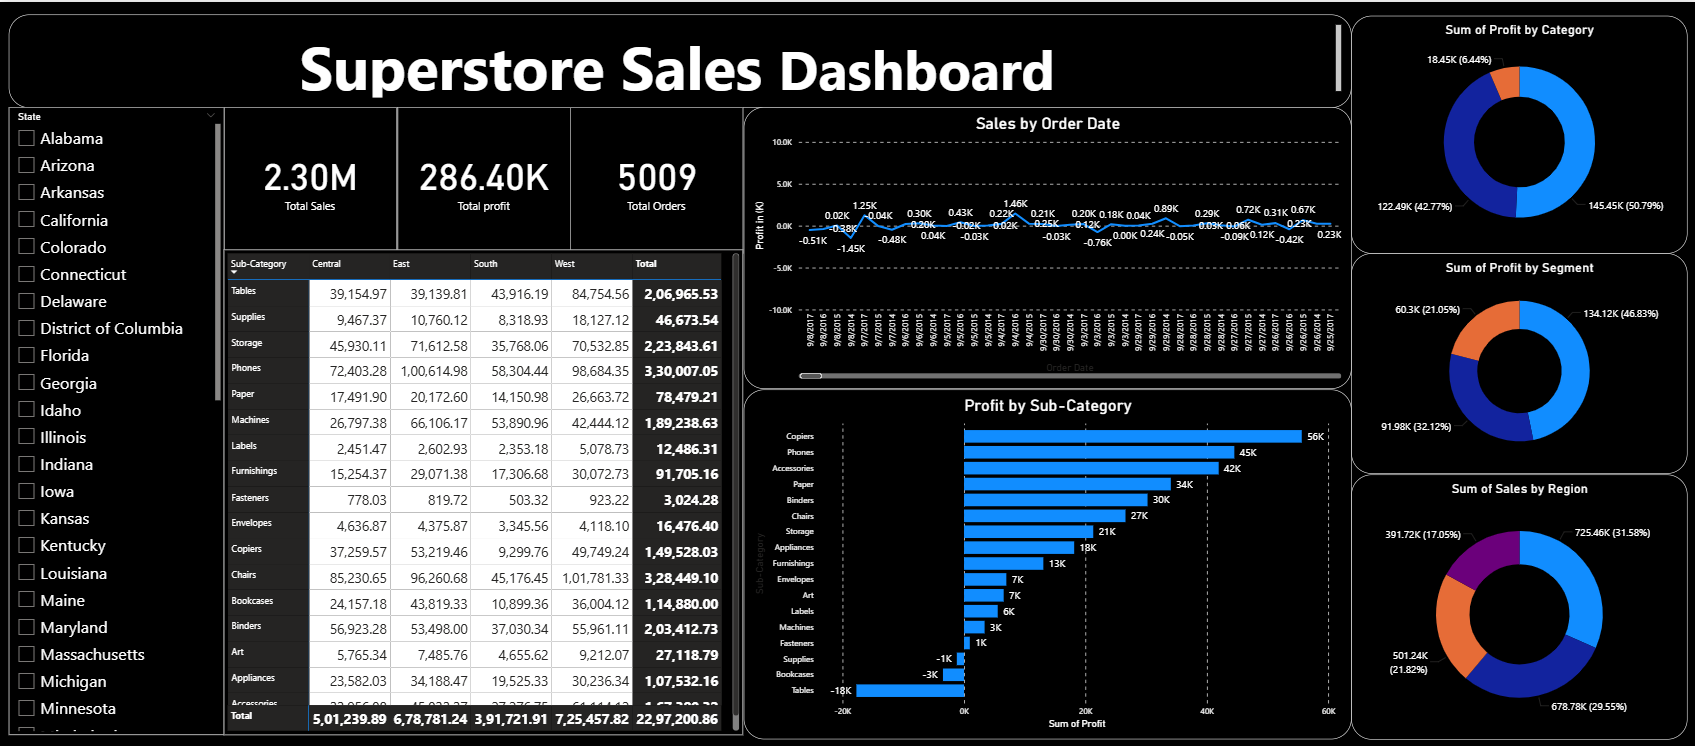

The dashboard page shown, as its layout file describes it:
{"tool":"powerbi","page":{"name":"Page 1","canvas":[2500,1100],"ordinal":0},"visuals":[{"type":"textbox","box":[12.5,17.5,1977.5,137.5],"z":0},{"type":"card","fields":{"Values":["Sample_Superstore.total profit"]},"box":[585,155,255,215],"z":1000},{"type":"card","fields":{"Values":["Sample_Superstore.Total Sales"]},"box":[330,155,255,215],"z":2000},{"type":"slicer","fields":{"Values":["Sample_Superstore.State"]},"box":[12.5,155,317.5,925],"z":4000},{"type":"donutChart","fields":{"Category":["Sample_Superstore.Region"],"Y":["Sum(Sample_Superstore.Sales)"]},"box":[1990,695,495,390],"z":5000},{"type":"donutChart","fields":{"Y":["Sum(Sample_Superstore.Profit)"],"Category":["Sample_Superstore.Category"]},"box":[1990,20,495,350],"z":6000},{"type":"donutChart","fields":{"Y":["Sum(Sample_Superstore.Profit)"],"Category":["Sample_Superstore.Segment"]},"box":[1990,370,495,325],"z":7000},{"type":"barChart","title":"Profit by Sub-Category","fields":{"Y":["Sum(Sample_Superstore.Profit)"],"Category":["Sample_Superstore.Sub-Category"]},"box":[1095,570,895,515],"z":8000},{"type":"lineChart","title":"Sales by Order Date","fields":{"Category":["Sample_Superstore.Order Date"],"Y":["Sample_Superstore.Total profit"]},"box":[1095,155,895,415],"z":9000},{"type":"card","fields":{"Values":["Sample_Superstore.Total Orders"]},"box":[840,155,255,215],"z":10000},{"type":"pivotTable","fields":{"Rows":["Sample_Superstore.Sub-Category"],"Columns":["Sample_Superstore.Region"],"Values":["Sum(Sample_Superstore.Sales)"]},"box":[330,365,765,715],"z":11000}]}

Visuals, with their boxes in screenshot pixels (x1, y1, x2, y2), scaled from the page's 2500x1100 canvas onto the 1695x746 screenshot:
textbox: (8, 12, 1349, 105)
card - Sample_Superstore.total profit: (397, 105, 570, 251)
card - Sample_Superstore.Total Sales: (224, 105, 397, 251)
slicer - Sample_Superstore.State: (8, 105, 224, 732)
donutChart - Sample_Superstore.Region x Sum(Sample_Superstore.Sales): (1349, 471, 1685, 736)
donutChart - Sum(Sample_Superstore.Profit) x Sample_Superstore.Category: (1349, 14, 1685, 251)
donutChart - Sum(Sample_Superstore.Profit) x Sample_Superstore.Segment: (1349, 251, 1685, 471)
"Profit by Sub-Category" barChart: (742, 387, 1349, 736)
"Sales by Order Date" lineChart: (742, 105, 1349, 387)
card - Sample_Superstore.Total Orders: (570, 105, 742, 251)
pivotTable - Sample_Superstore.Sub-Category x Sample_Superstore.Region: (224, 248, 742, 732)
